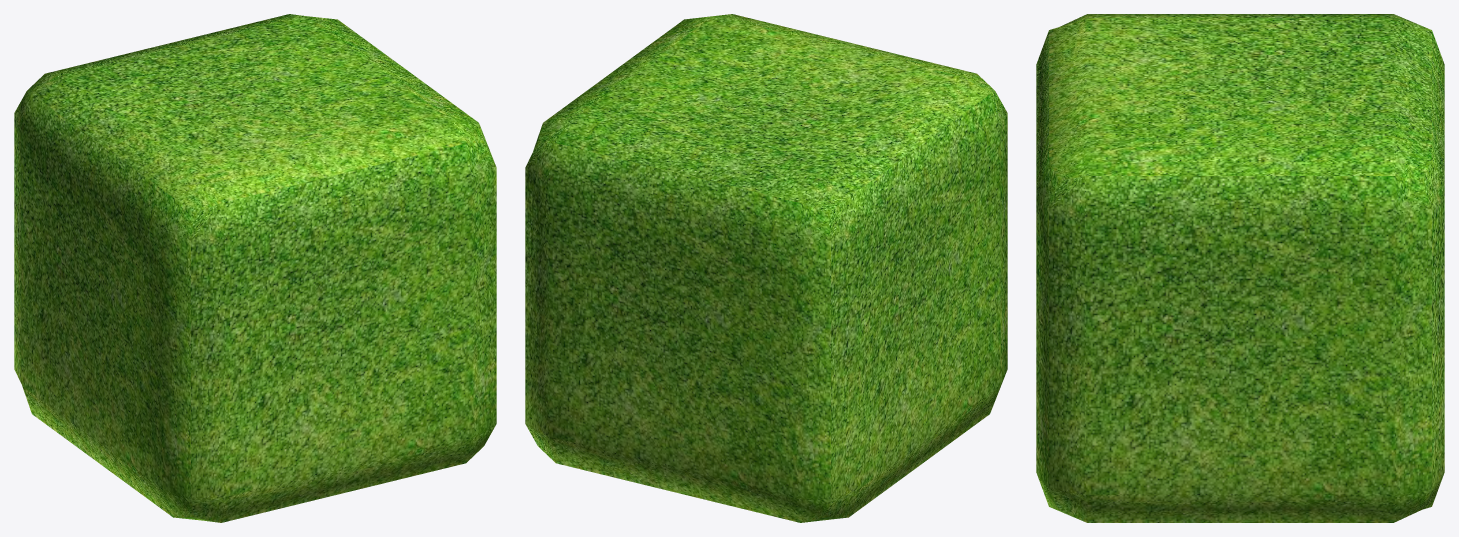
The picture shows the model from 3 angles, left to right: view 1: azimuth 30°, elevation 25°; view 2: azimuth 150°, elevation 25°; view 3: azimuth 270°, elevation 25°; orthographic projection. The views are drawn at different scales.
Parts seen in each view (by area): view 1: Box001; view 2: Box001; view 3: Box001.
Part boxes in pixels (x1=…): Box001: x1=14, y1=14, x2=496, y2=522; Box001: x1=525, y1=14, x2=1007, y2=522; Box001: x1=1036, y1=14, x2=1444, y2=522.
Bounding box in the file's own units: 100 × 100 × 100.
Materials: 1 (1 with a texture image).
